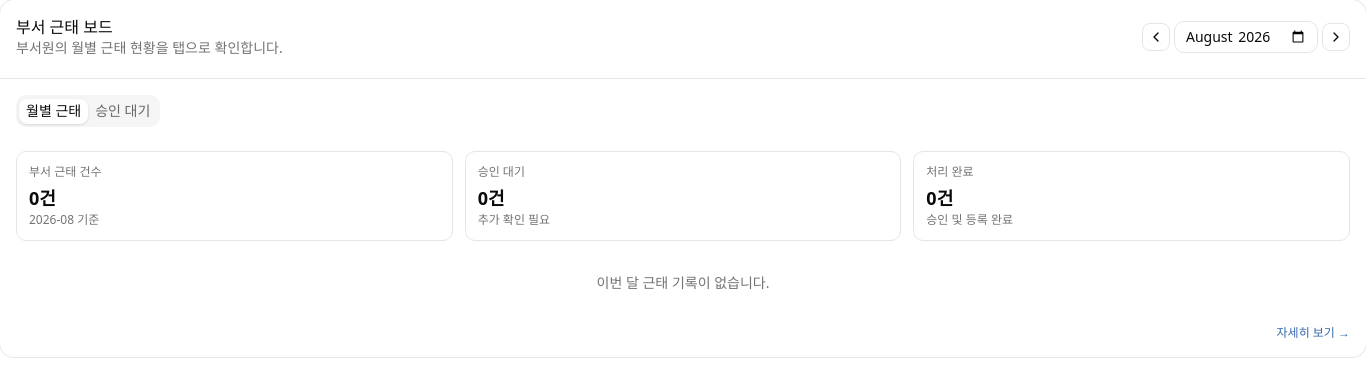
DeptAttendanceBoardWidget - 승인 대기 탭 › 승인 대기 목록이 없으면 빈 상태 문구를 보여준다
Click the tab "승인 대기".
click(123, 111)  # box [88, 98, 157, 124]
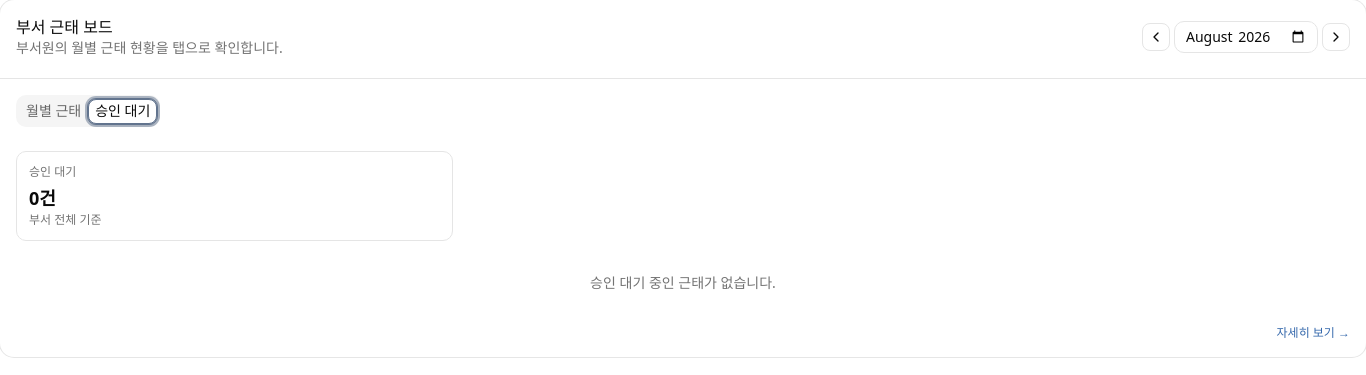
expect the text "승인 대기 중인 근태가 없습니다." is shown: met, box [590, 273, 776, 292]
